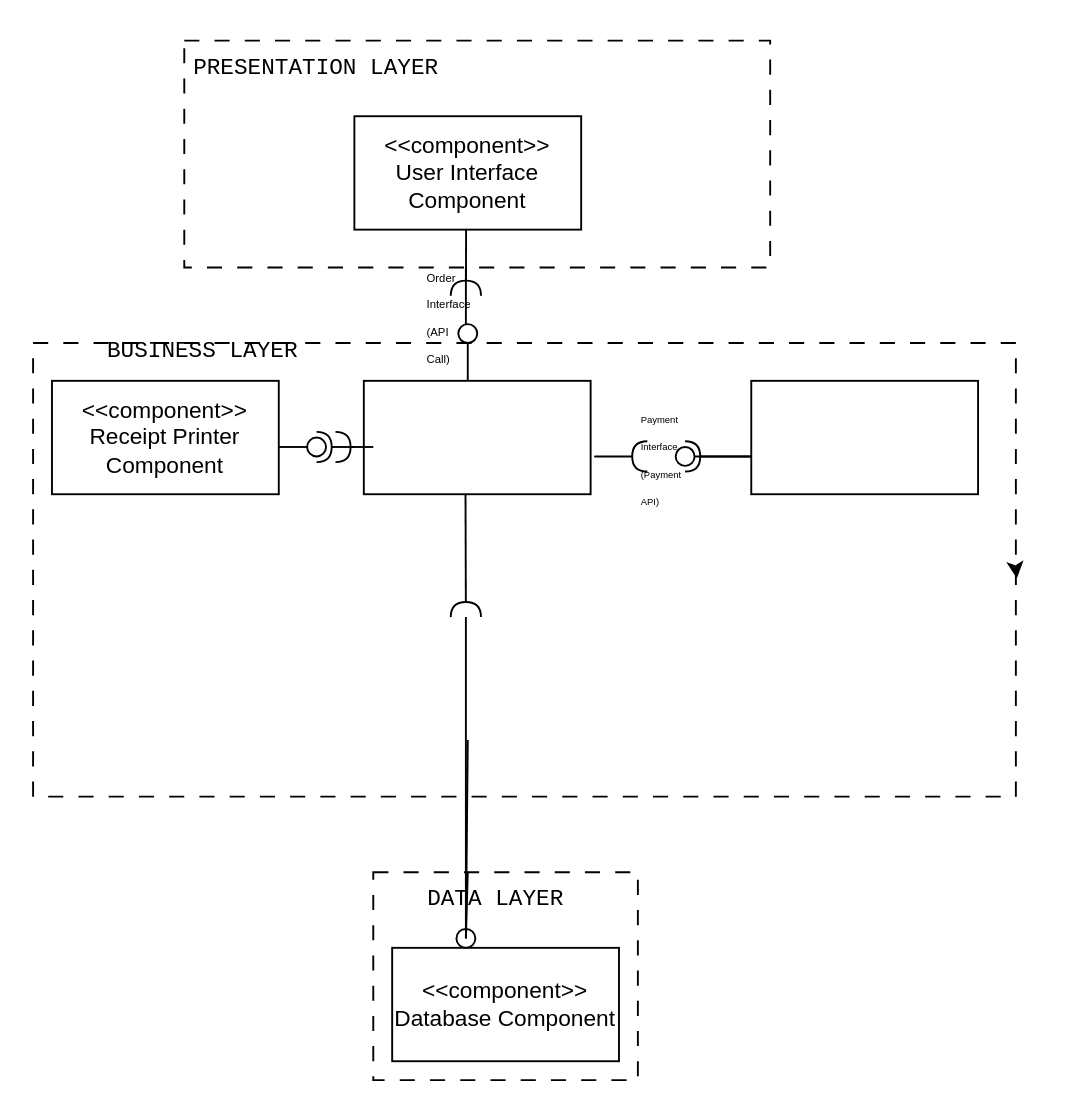
Image size: 1066x1113. Some labels were removed from this diagram. The centre of each missing label's shape, as x and y in pixels:
<<component>> Order Manager Component: (476,436)
<<component>> Payment Service Component: (863,436)
